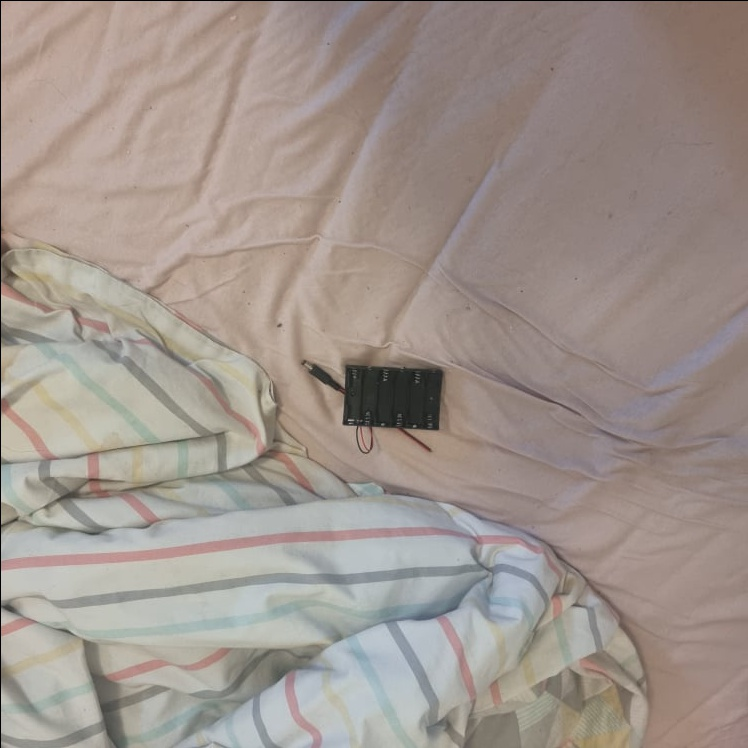BATTERY BOX: (340, 361, 445, 430)
